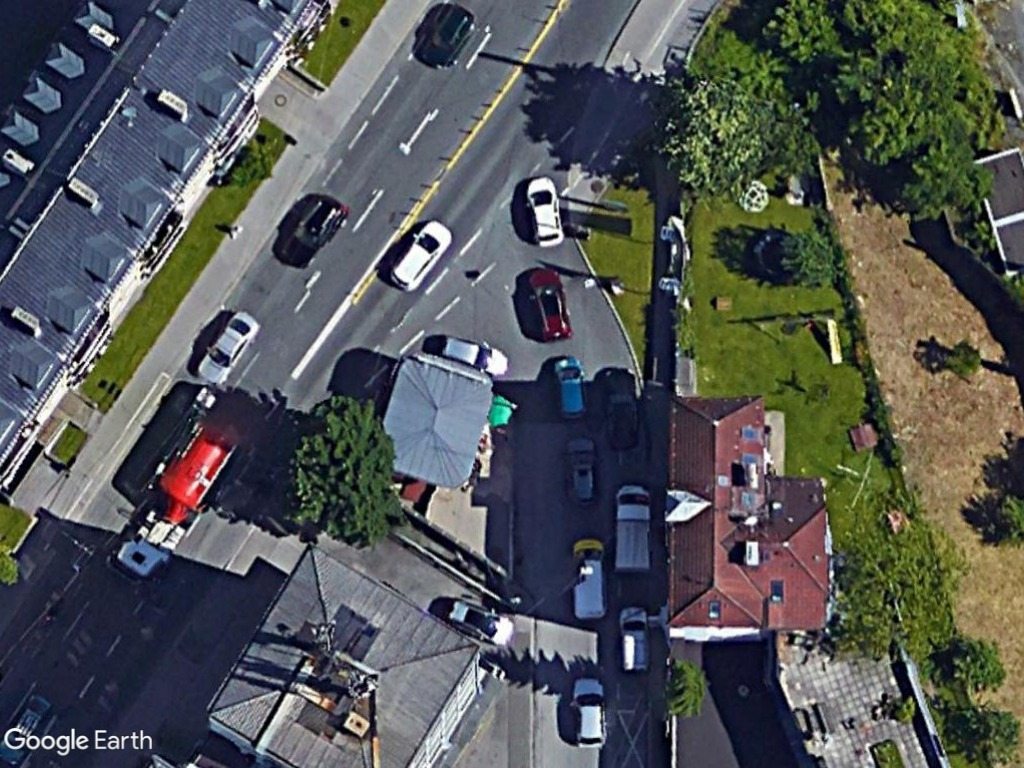car: (188, 304, 263, 389), (384, 211, 453, 294), (523, 262, 575, 347), (561, 431, 606, 517), (567, 670, 610, 756), (522, 173, 568, 252), (548, 352, 594, 426)
truck: (607, 479, 659, 578)
van: (567, 531, 612, 625)
